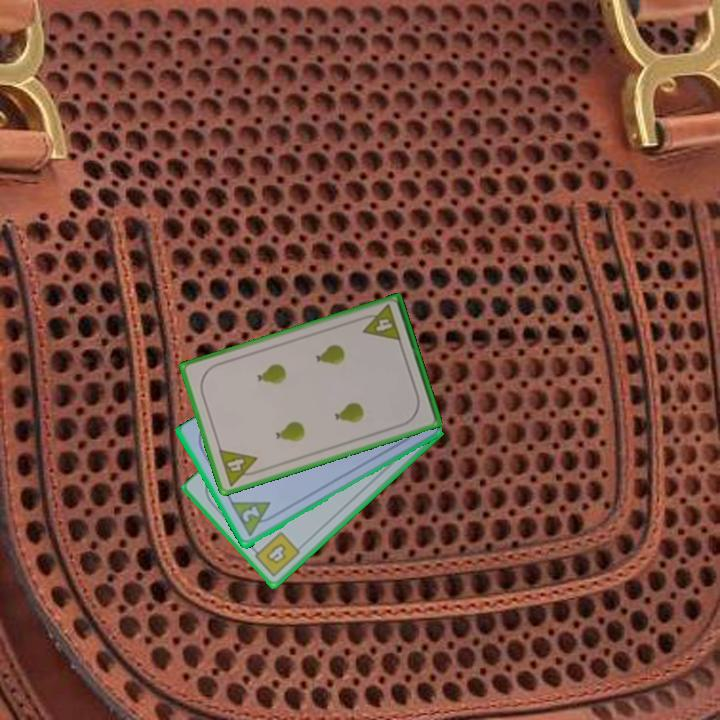2p: (227, 498, 280, 540)
4b: (248, 528, 303, 580)
4p: (215, 445, 264, 489), (356, 301, 404, 345)
